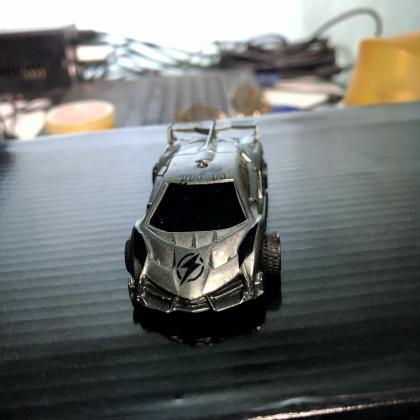Car: (118, 112, 288, 324)
